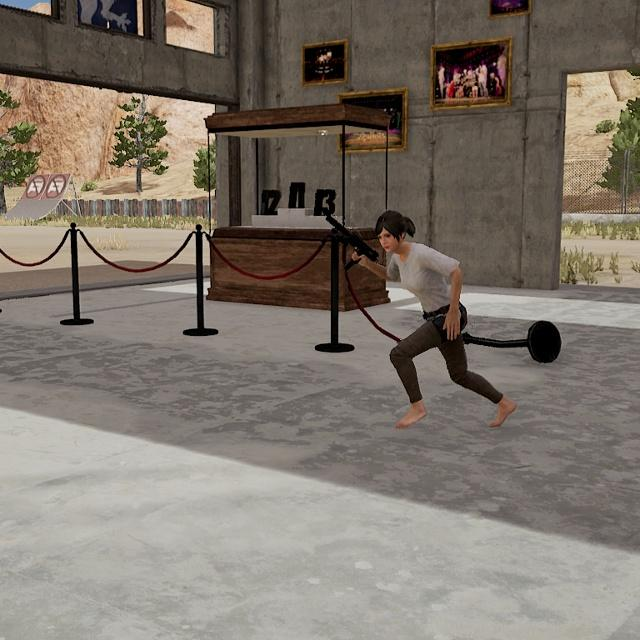head: (373, 209, 409, 254)
people: (373, 210, 517, 428)
